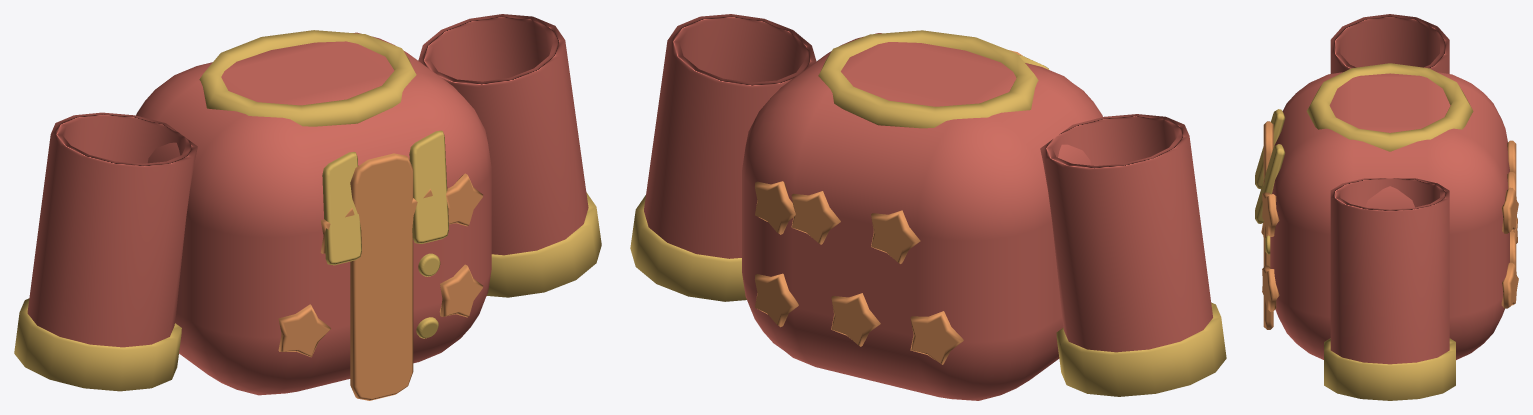
File: paradise_planning_blazer.glb
3 views of the same model, side by side, from view 1: azimuth 30°, elevation 25°; view 2: azimuth 150°, elevation 25°; view 3: azimuth 270°, elevation 25° (orthographic). The views are drawn at different scales.
Visible parts, largest first — view 1: paradise_planning_blazer_Body, paradise_planning_blazer_ArmL, paradise_planning_blazer_ArmR; view 2: paradise_planning_blazer_Body, paradise_planning_blazer_ArmL, paradise_planning_blazer_ArmR; view 3: paradise_planning_blazer_Body, paradise_planning_blazer_ArmR, paradise_planning_blazer_ArmL.
Part boxes in pixels (x1,y1,x2,y2): paradise_planning_blazer_Body: (136, 30, 491, 400); paradise_planning_blazer_ArmL: (14, 112, 197, 391); paradise_planning_blazer_ArmR: (418, 14, 601, 297); paradise_planning_blazer_Body: (742, 30, 1102, 400); paradise_planning_blazer_ArmL: (1040, 114, 1226, 396); paradise_planning_blazer_ArmR: (630, 14, 816, 301); paradise_planning_blazer_Body: (1255, 63, 1518, 359); paradise_planning_blazer_ArmR: (1324, 178, 1455, 400); paradise_planning_blazer_ArmL: (1330, 14, 1449, 73).
Bounding box in the file's own units: 0.6504 × 0.3119 × 0.3195.
